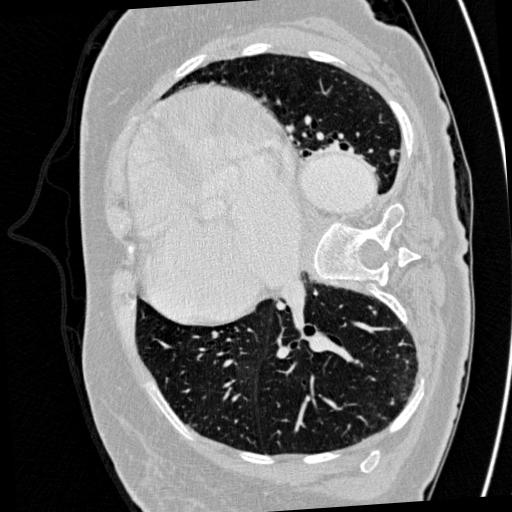nodule: (387, 148, 399, 160)
